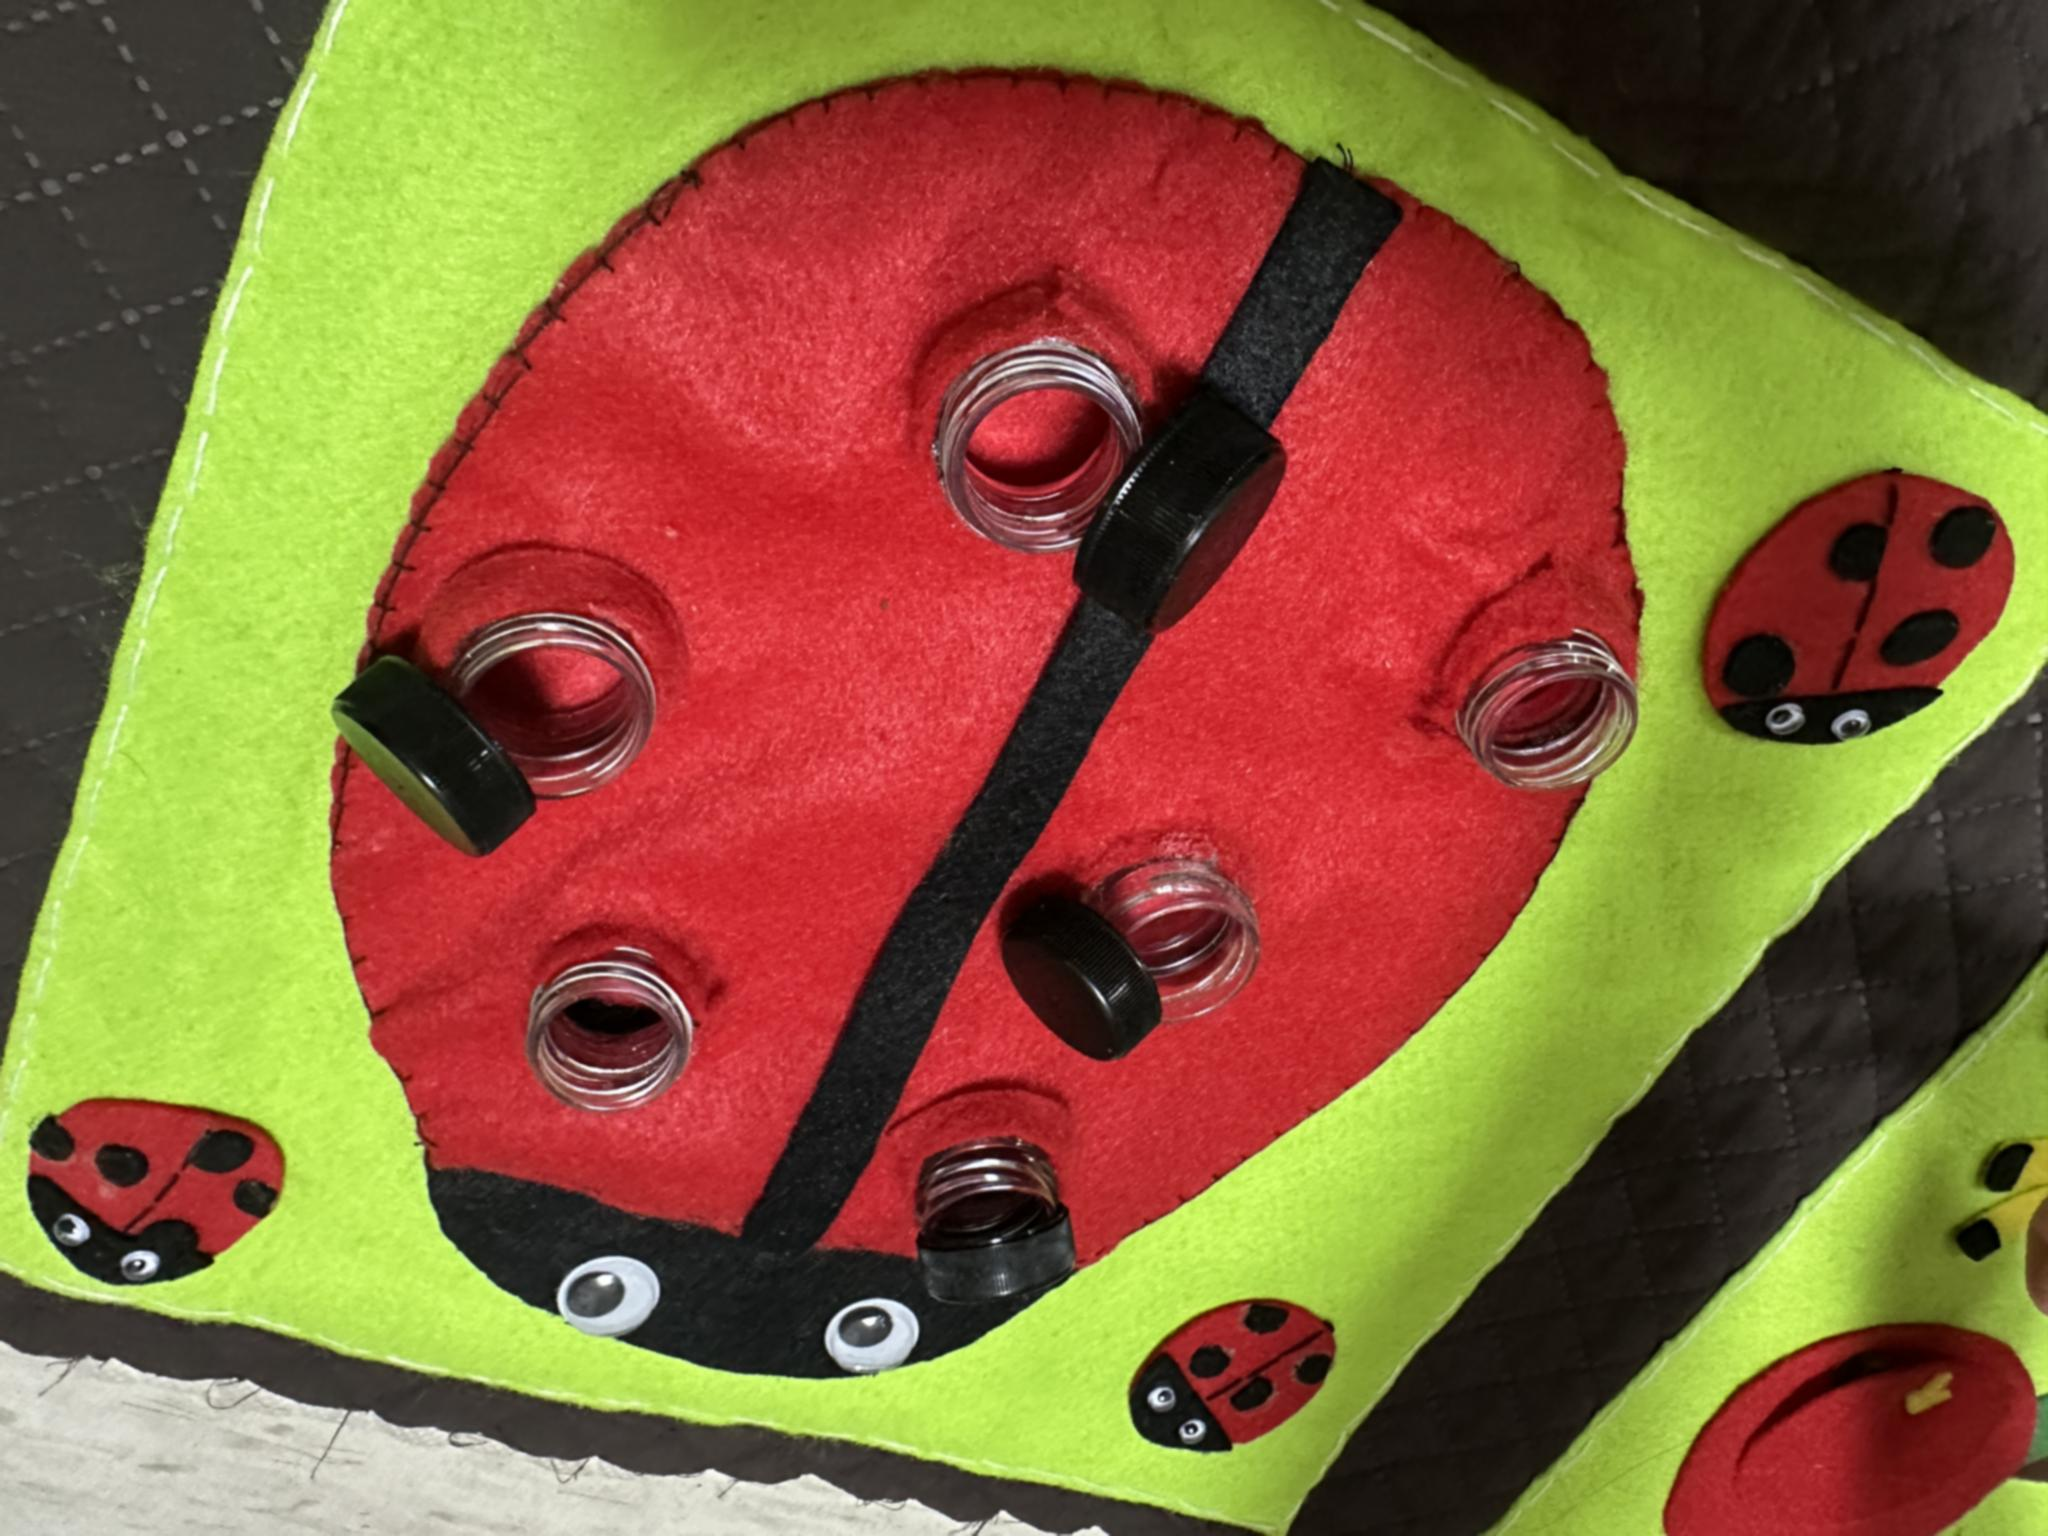cap_ng: (922, 268, 1295, 652), (310, 541, 698, 879), (1000, 821, 1295, 1078), (892, 1076, 1100, 1321)
